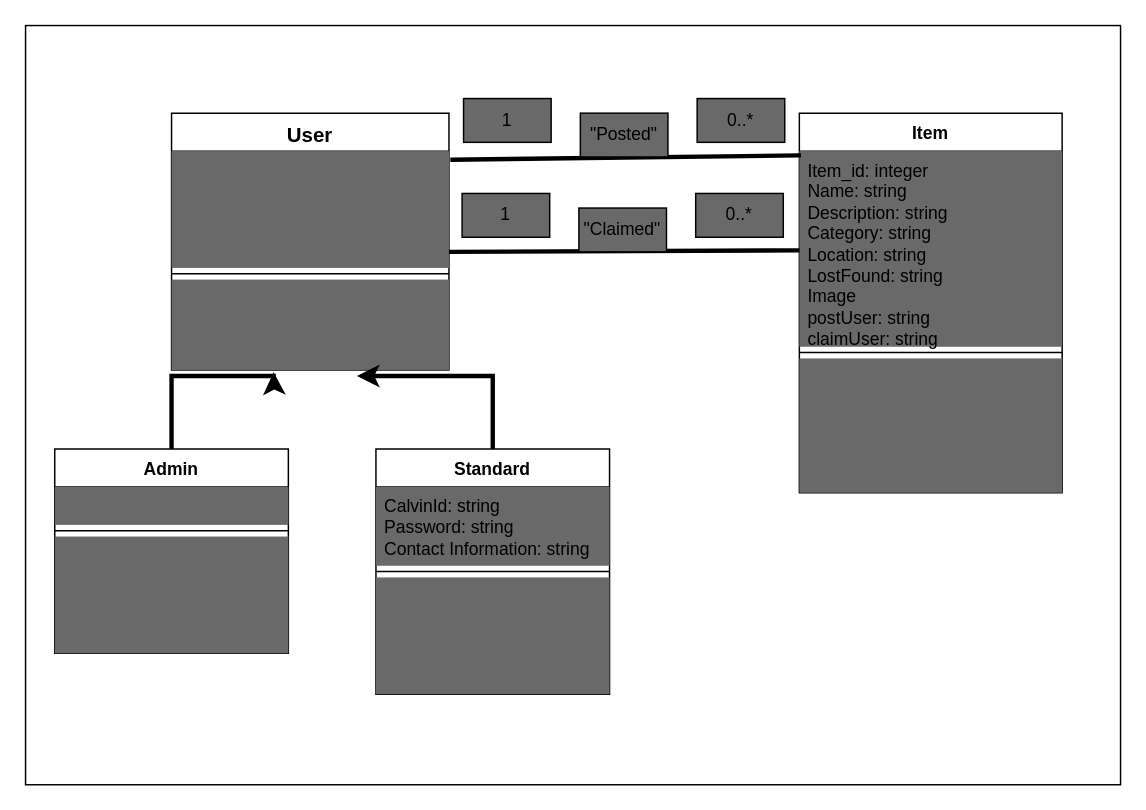
The diagram is 1146 pixels wide and 810 high, and some of its shapes have lost their labels. Each missing label, with the centre of its shape:
add_user() delete_user() modify_location() modify_status() change_settings(): pixel 171 594
Admin_id: string/integer: pixel 171 505
id: string email: string name: string password: string type: string: pixel 309 208
login() logout() update_profile(): pixel 309 324
mark_as_found() mark_as_lost() get_status(): pixel 930 425
view_history() comment() access_help(): pixel 492 635
